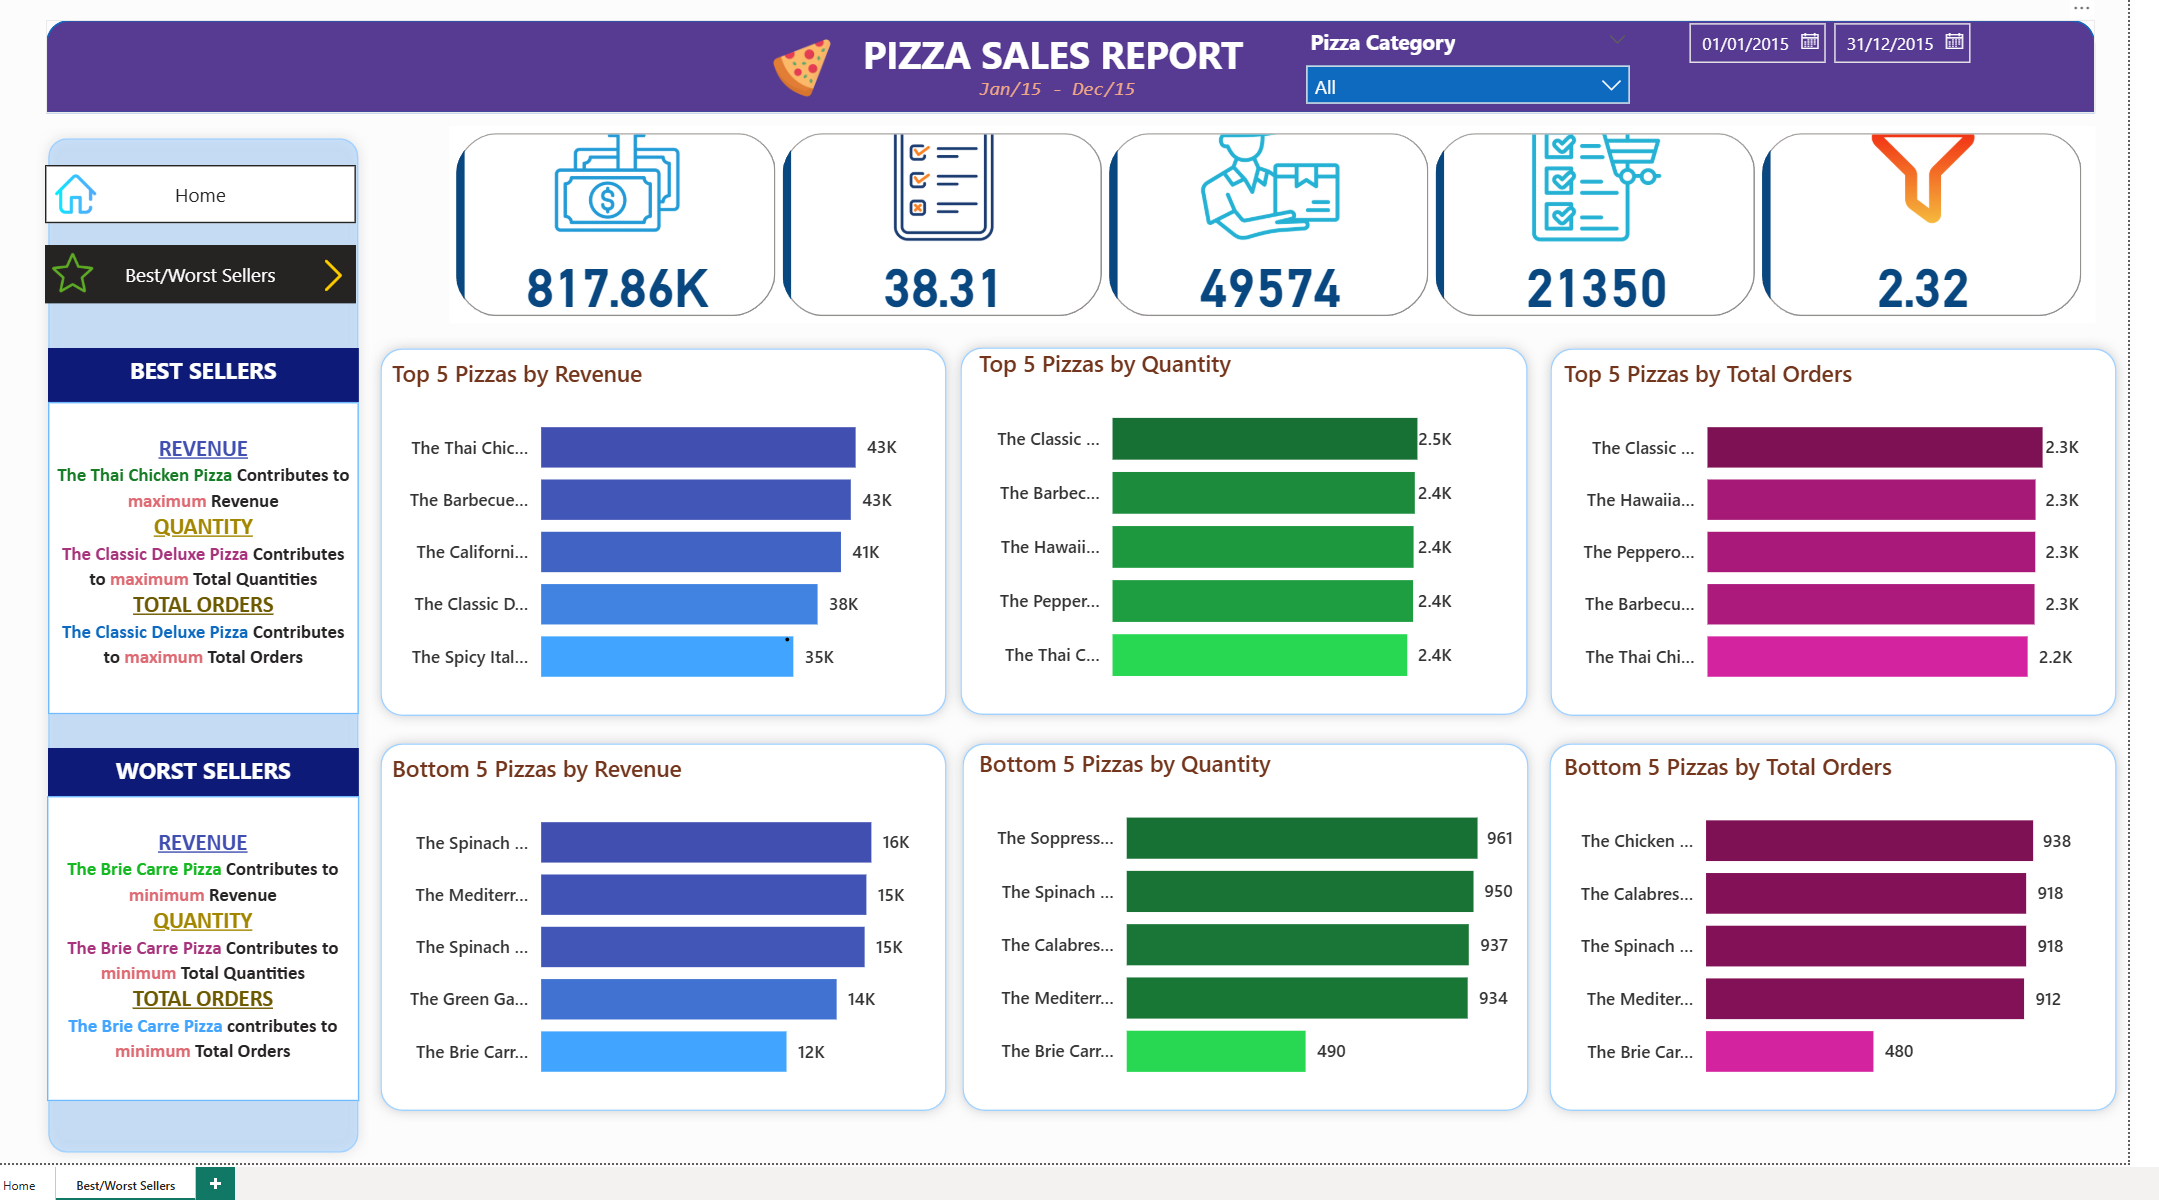

The dashboard page shown, as its layout file describes it:
{"tool":"powerbi","page":{"name":"Best/Worst Sellers","canvas":[1500,820],"ordinal":1},"visuals":[{"type":"cardVisual","fields":{"Data":["pizza_sales.Total Revenue","pizza_sales.Avg Order Value","pizza_sales.Total Pizzas Sold","pizza_sales.Total Orders","pizza_sales.Avg Pizzas Per Order"]},"box":[316.9,89.6,1159.8,139.1],"z":0},{"type":"shape","box":[33.2,14.8,1443.5,65.6],"z":1000},{"type":"textbox","box":[603.6,15.2,289.7,54.6],"z":2000},{"type":"textbox","box":[685.5,48.5,130.4,41],"z":3000},{"type":"image","box":[527.8,22.8,75.8,51.6],"z":4000},{"type":"shape","box":[26.6,89.8,234.4,730.5],"z":5000},{"type":"textbox","box":[34.4,246.1,218.8,37.5],"z":6000},{"type":"textbox","box":[34.4,283.6,218.8,220.3],"z":7000},{"type":"textbox","box":[34.4,527.3,218.8,38.3],"z":8000},{"type":"textbox","box":[33.6,561.7,219.5,214.8],"z":9000},{"type":"slicer","fields":{"Values":["pizza_sales.pizza_category"]},"box":[910.9,14.8,247.7,65.6],"z":10000},{"type":"slicer","fields":{"Values":["pizza_sales.order_date"]},"box":[1178.1,7,247.7,73.4],"z":11000},{"type":"shape","box":[1085.2,238.3,414.8,275],"z":12000},{"type":"shape","box":[260.9,238.3,414.8,275],"z":13000},{"type":"shape","box":[669.5,237.5,415.6,275],"z":14000},{"type":"shape","box":[1084.4,516.4,415.6,275],"z":15000},{"type":"shape","box":[670.3,516.4,414.8,275],"z":16000},{"type":"shape","box":[260.9,516.4,414.8,275],"z":17000},{"type":"barChart","title":"Top 5 Pizzas by Revenue","fields":{"Category":["pizza_sales.pizza_name"],"Y":["pizza_sales.Total Revenue"]},"box":[271.9,253.1,387.5,245.3],"z":18000},{"type":"barChart","title":"Bottom 5 Pizzas by Revenue","fields":{"Category":["pizza_sales.pizza_name"],"Y":["pizza_sales.Total Revenue"]},"box":[271.9,531.2,387.5,245.3],"z":19000},{"type":"barChart","title":"Top 5 Pizzas by Quantity","fields":{"Category":["pizza_sales.pizza_name"],"Y":["pizza_sales.Total Pizzas Sold"]},"box":[685.2,246.1,343,252.3],"z":20000},{"type":"barChart","title":"Bottom 5 Pizzas by Quantity","fields":{"Category":["pizza_sales.pizza_name"],"Y":["pizza_sales.Total Pizzas Sold"]},"box":[685.2,527.3,385.9,249.2],"z":21000},{"type":"barChart","title":"Top 5 Pizzas by Total Orders","fields":{"Category":["pizza_sales.pizza_name"],"Y":["pizza_sales.Total Orders"]},"box":[1097.7,253.1,372.7,245.3],"z":22000},{"type":"barChart","title":"Bottom 5 Pizzas by Total Orders","fields":{"Category":["pizza_sales.pizza_name"],"Y":["pizza_sales.Total Orders"]},"box":[1097.7,529.7,367.2,246.9],"z":23000},{"type":"pageNavigator","box":[32.7,173.6,219.1,41.8],"z":24000},{"type":"pageNavigator","box":[32.7,117.3,219.1,41.8],"z":25000},{"type":"image","box":[219.1,178.2,32.7,32.7],"z":26000},{"type":"image","box":[34.5,117.3,39.1,41.8],"z":27000},{"type":"image","box":[32.7,173.6,39.1,39.1],"z":28000}]}

Visuals, with their boxes on the page's 1500x820 design canvas (x1, y1, x2, y2). These are canvas units, not pixel positions in the 2159x1200 screenshot, which may show the page scaled, cropped or inside an application window:
cardVisual - pizza_sales.Total Revenue x pizza_sales.Avg Order Value: x1=317, y1=90, x2=1477, y2=229
shape: x1=33, y1=15, x2=1477, y2=80
textbox: x1=604, y1=15, x2=893, y2=70
textbox: x1=686, y1=48, x2=816, y2=90
image: x1=528, y1=23, x2=604, y2=74
shape: x1=27, y1=90, x2=261, y2=820
textbox: x1=34, y1=246, x2=253, y2=284
textbox: x1=34, y1=284, x2=253, y2=504
textbox: x1=34, y1=527, x2=253, y2=566
textbox: x1=34, y1=562, x2=253, y2=776
slicer - pizza_sales.pizza_category: x1=911, y1=15, x2=1159, y2=80
slicer - pizza_sales.order_date: x1=1178, y1=7, x2=1426, y2=80
shape: x1=1085, y1=238, x2=1500, y2=513
shape: x1=261, y1=238, x2=676, y2=513
shape: x1=670, y1=238, x2=1085, y2=512
shape: x1=1084, y1=516, x2=1500, y2=791
shape: x1=670, y1=516, x2=1085, y2=791
shape: x1=261, y1=516, x2=676, y2=791
"Top 5 Pizzas by Revenue" barChart: x1=272, y1=253, x2=659, y2=498
"Bottom 5 Pizzas by Revenue" barChart: x1=272, y1=531, x2=659, y2=776
"Top 5 Pizzas by Quantity" barChart: x1=685, y1=246, x2=1028, y2=498
"Bottom 5 Pizzas by Quantity" barChart: x1=685, y1=527, x2=1071, y2=776
"Top 5 Pizzas by Total Orders" barChart: x1=1098, y1=253, x2=1470, y2=498
"Bottom 5 Pizzas by Total Orders" barChart: x1=1098, y1=530, x2=1465, y2=777
pageNavigator: x1=33, y1=174, x2=252, y2=215
pageNavigator: x1=33, y1=117, x2=252, y2=159
image: x1=219, y1=178, x2=252, y2=211
image: x1=34, y1=117, x2=74, y2=159
image: x1=33, y1=174, x2=72, y2=213
